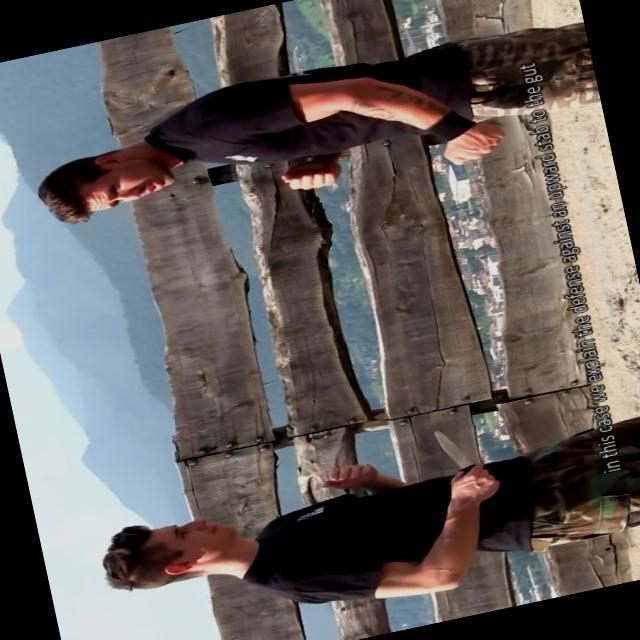knife: (420, 412, 504, 510)
